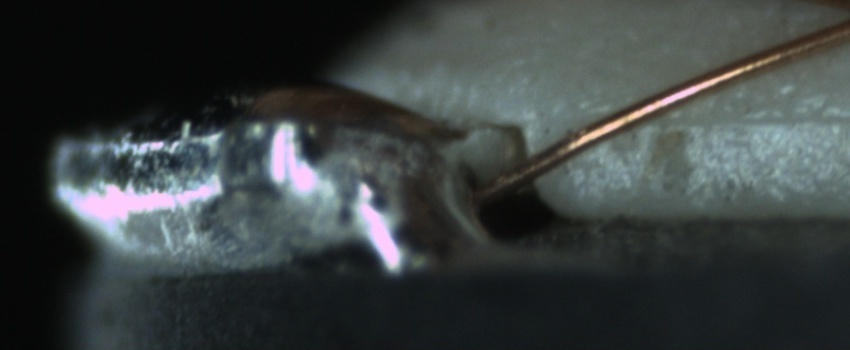DL: (675, 86, 850, 151)
